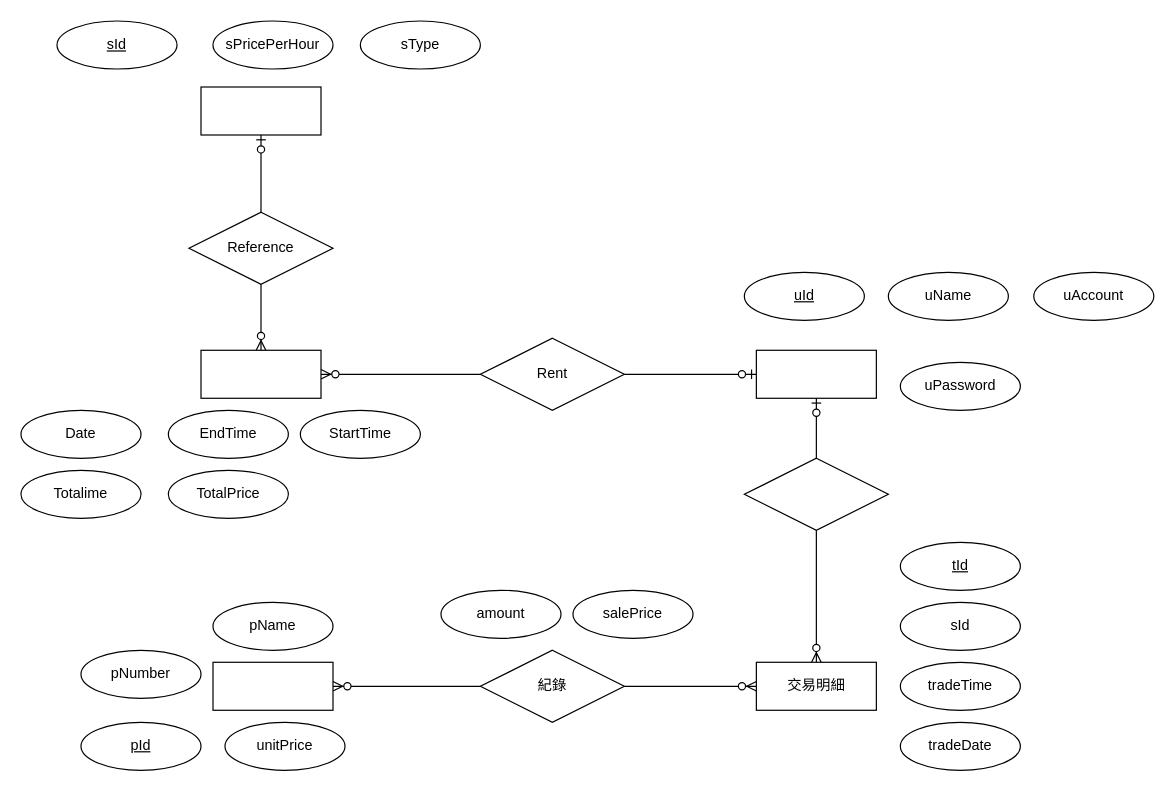
This 1175x792 diagram has some shape labels left out. Here are the shapes that lost their labels. From the top down, the box of each, then its label:
(200, 86, 321, 135): Space
(200, 349, 321, 398): SpaceTime
(755, 349, 876, 398): 會員
(743, 457, 888, 530): 新增
(212, 661, 333, 710): 商品
